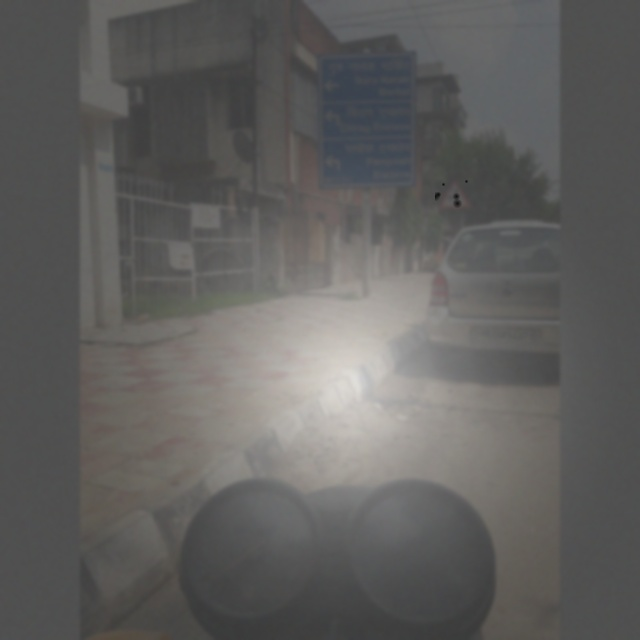Side_Road_Left: (435, 172, 474, 213)
